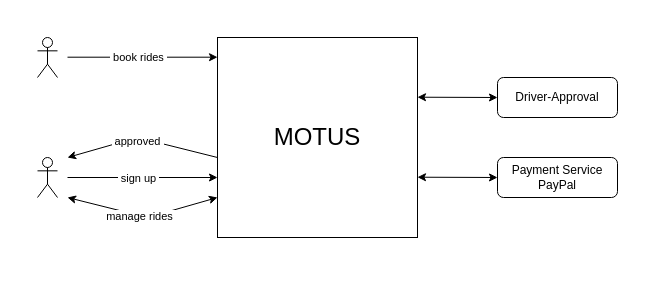
The diagram is 654 pixels wide and 304 high, and some of its shapes have lost their labels. The centre of each missing label's shape, as x and y in pixels:
"driver" belongs at [47,177].
"passanger" belongs at [47,57].
